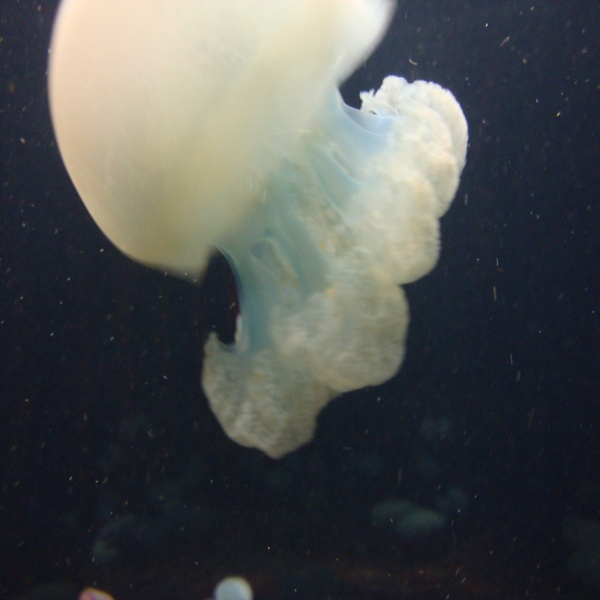Jellyfish: (43, 0, 468, 460)
